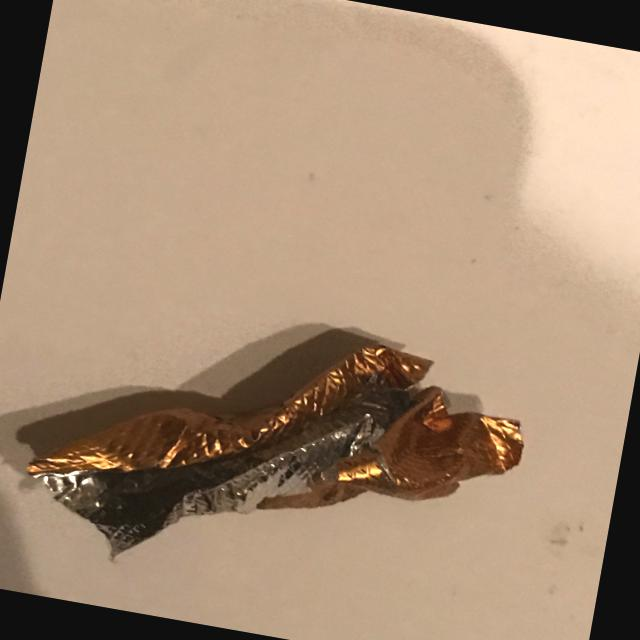Metal: (0, 264, 563, 640)
